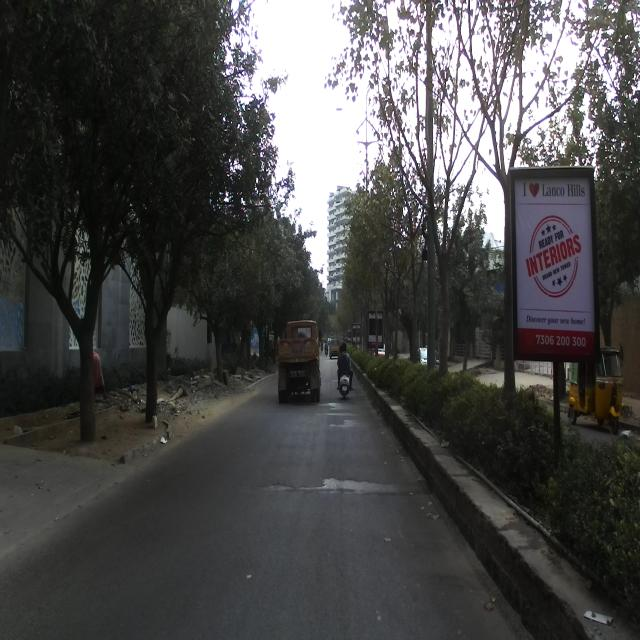tree ahead at: (30, 214, 116, 439)
truck ahead at: (270, 311, 322, 408)
